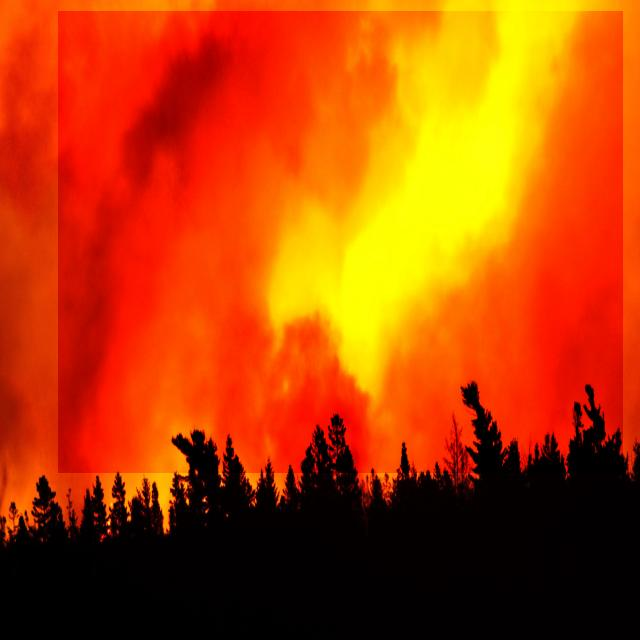Smoke: (58, 11, 623, 473)
